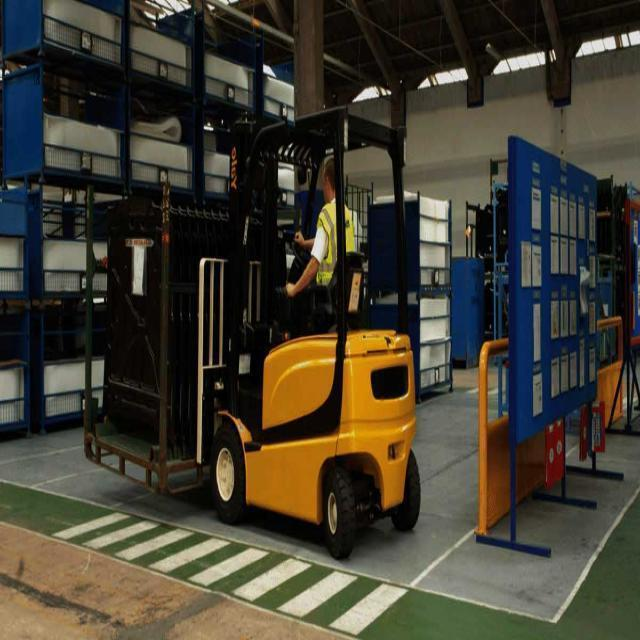forklift: (213, 101, 427, 568)
